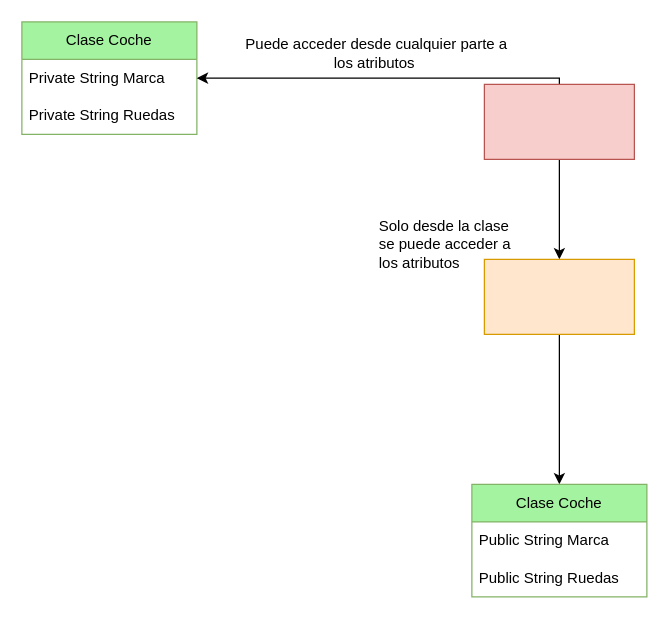
This 669x619 diagram has some shape labels left out. Each missing label, with the centre of its shape:
Paquete: point 558,296
Programa: point 558,121
